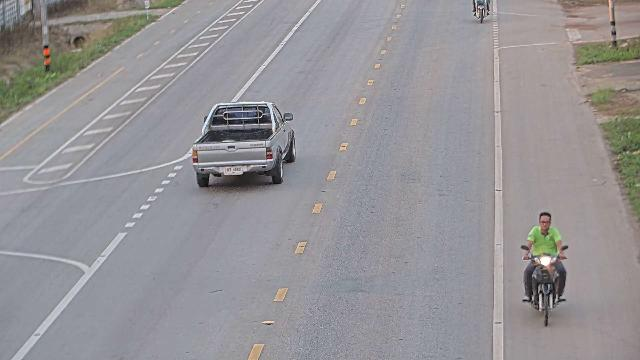motorcycle: (520, 233, 570, 327), (469, 0, 493, 24)
pickup-truck: (191, 100, 296, 187)
